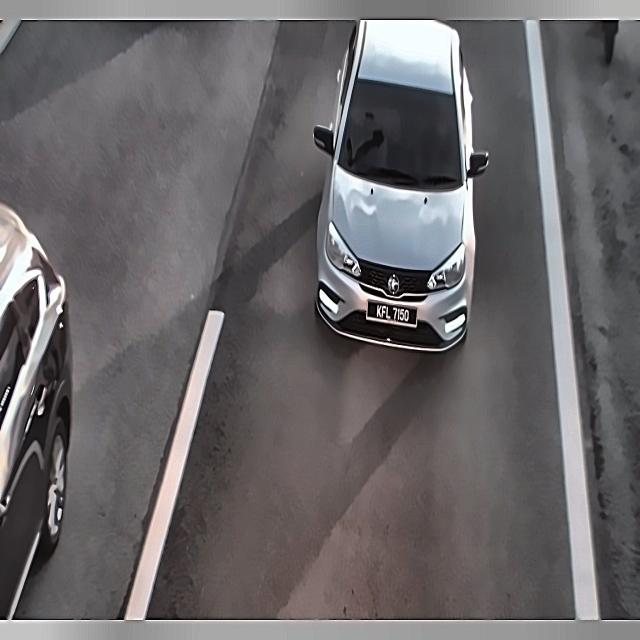car: (362, 294, 421, 334)
